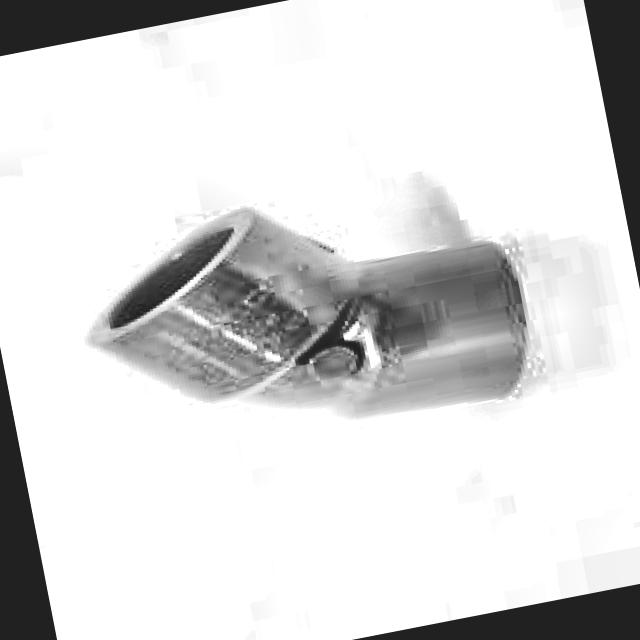ELBOW45: (84, 204, 528, 422)
